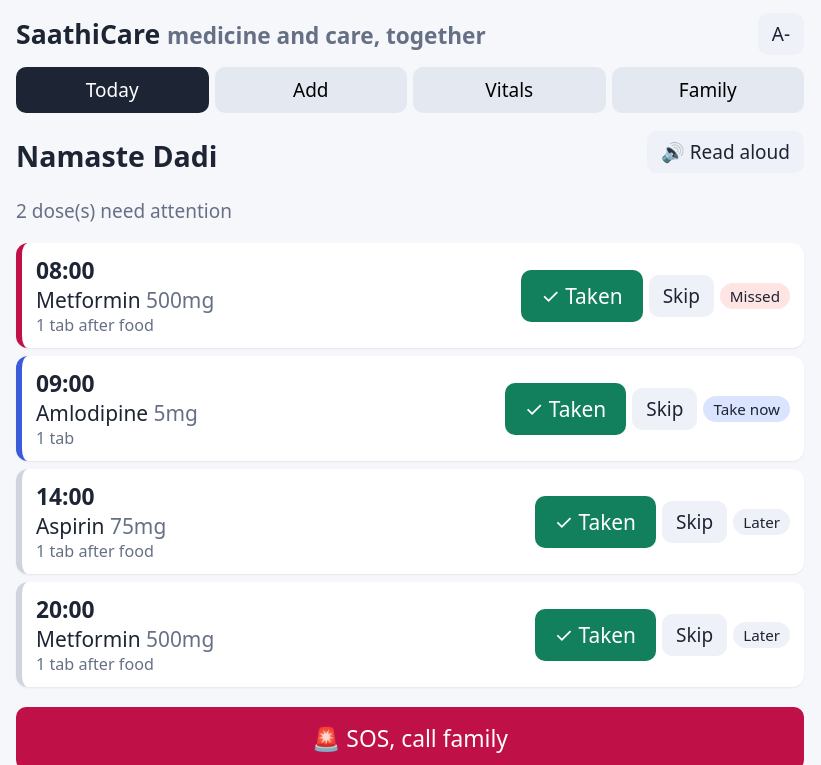
Test: App › shows family alerts and rejects bad phone numbers
This screenshot has width=821, height=765.
Step 1. Click the tab "Family" → (708, 90), box [612,67,804,113]
(page scrolled)
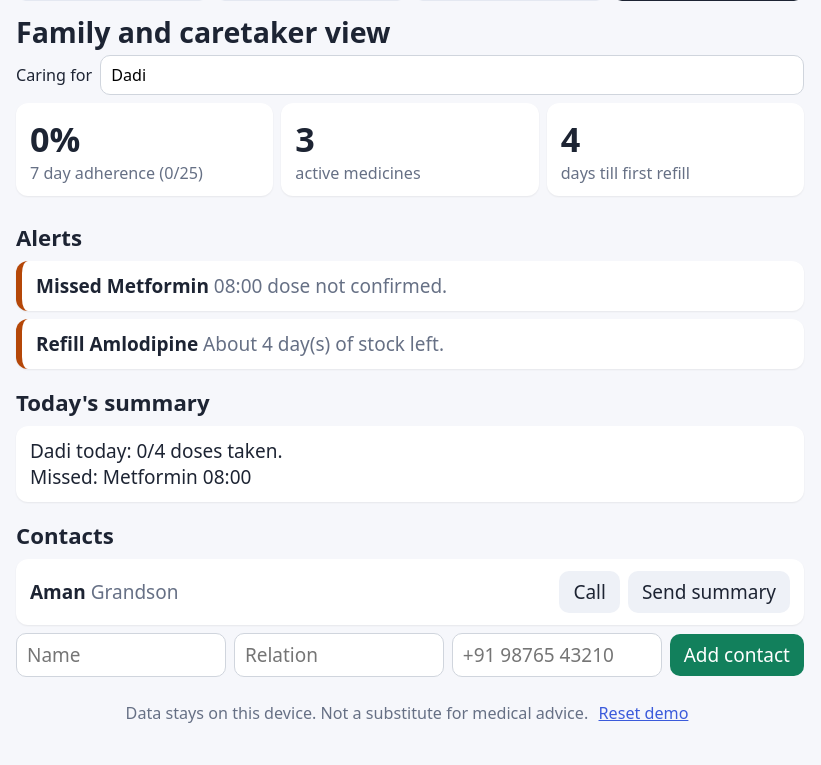
Check: the text "Refill Amlodipine" is shown, box [36,331,198,357]
Step 2. Type "Papa" into the field named "Contact name" → (121, 655), box [16,633,226,677]
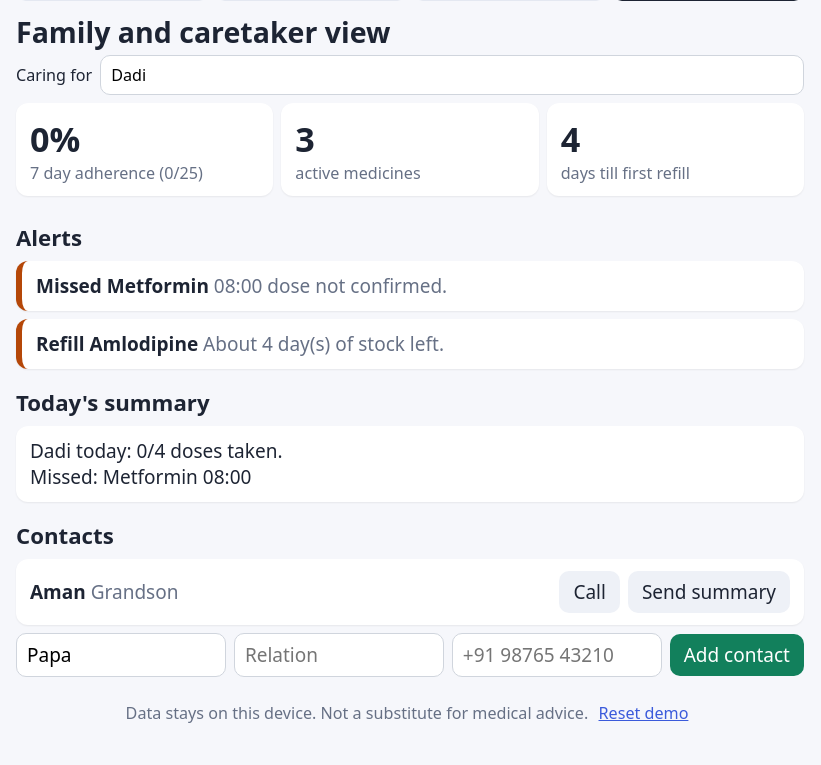
Step 3. Type "abc" into the field named "Phone" → (557, 655), box [452,633,662,677]
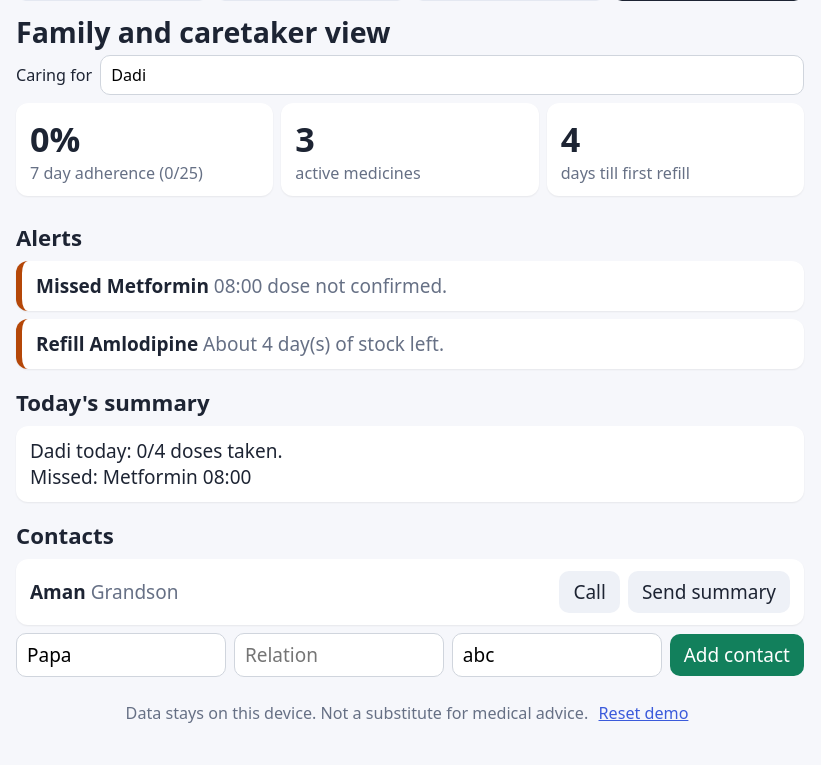
Step 4. Click the button "Add contact" → (737, 655), box [670,634,804,676]
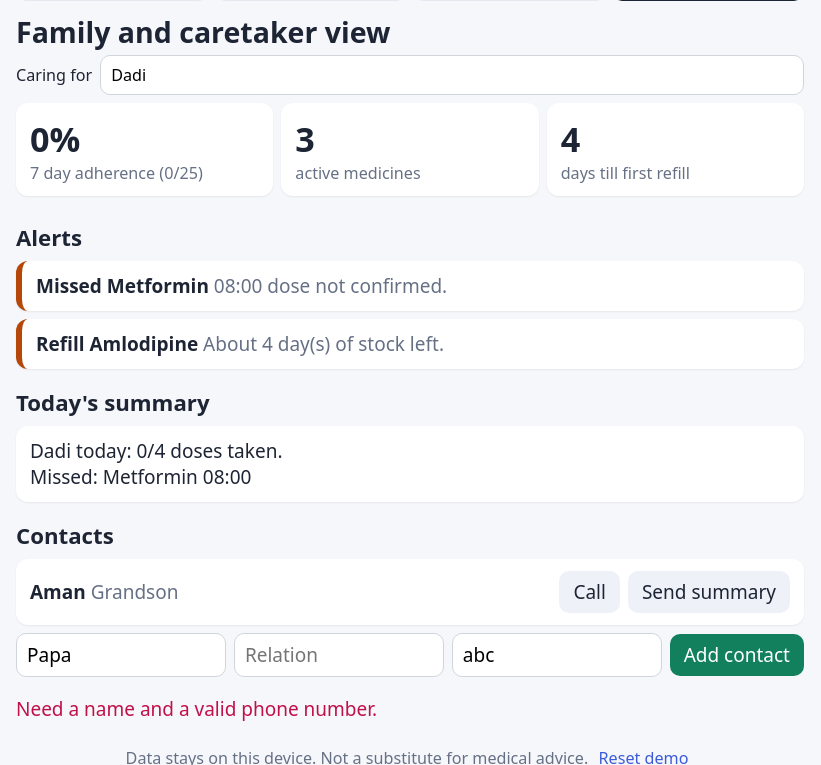
Check: the message shows "valid phone", box [16,696,377,722]
